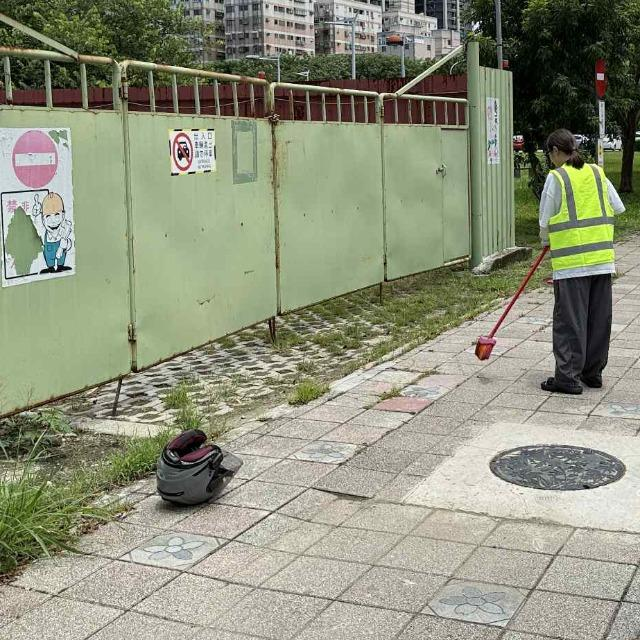Vest: (541, 159, 623, 277)
